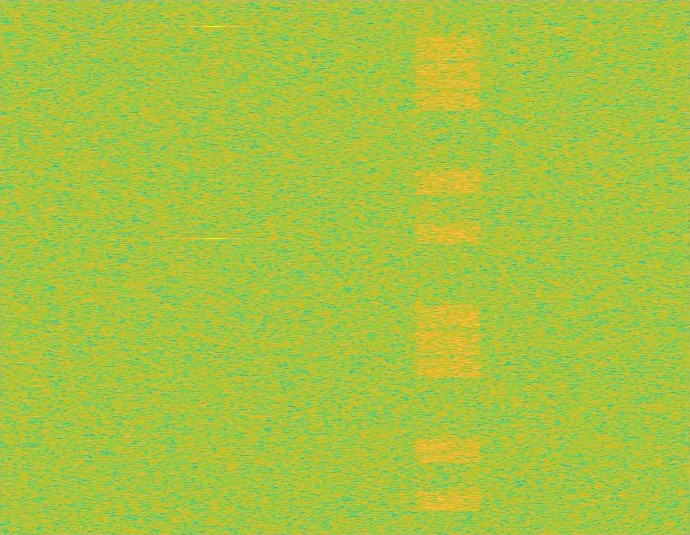LTE: (414, 0, 483, 534)
Radar: (207, 0, 221, 534)
